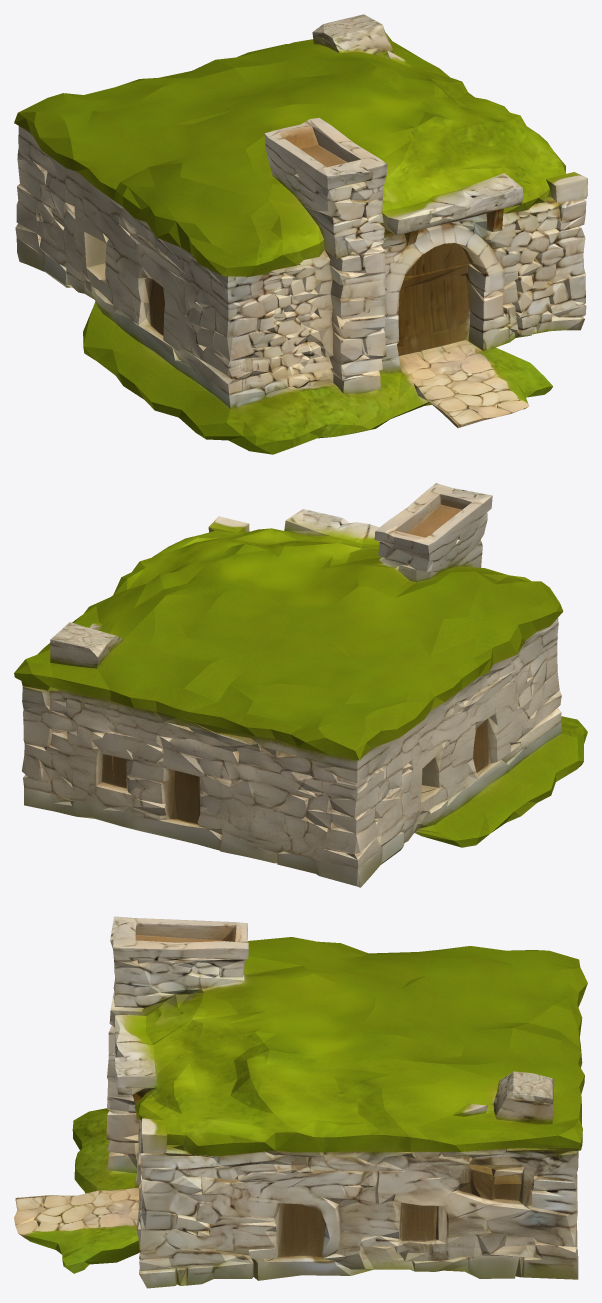
File: bunker.glb
3 renders of one model, top to bottom at view 1: azimuth 30°, elevation 25°; view 2: azimuth 150°, elevation 25°; view 3: azimuth 270°, elevation 25°, orthographic. The views are drawn at different scales.
Visible parts, largest first — view 1: model; view 2: model; view 3: model.
Boxes of the visible parts, x1,y1,x2,y2 form: model: (14, 14, 587, 454); model: (14, 483, 587, 887); model: (14, 916, 587, 1288).
Size of the model in its own units: 1.58 by 0.9372 by 1.9.
Materials: 1 (1 with a texture image).
